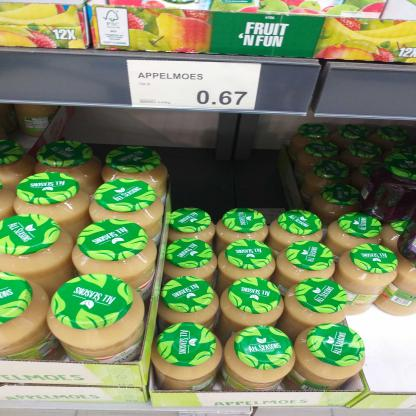prtg: (129, 61, 262, 111)
